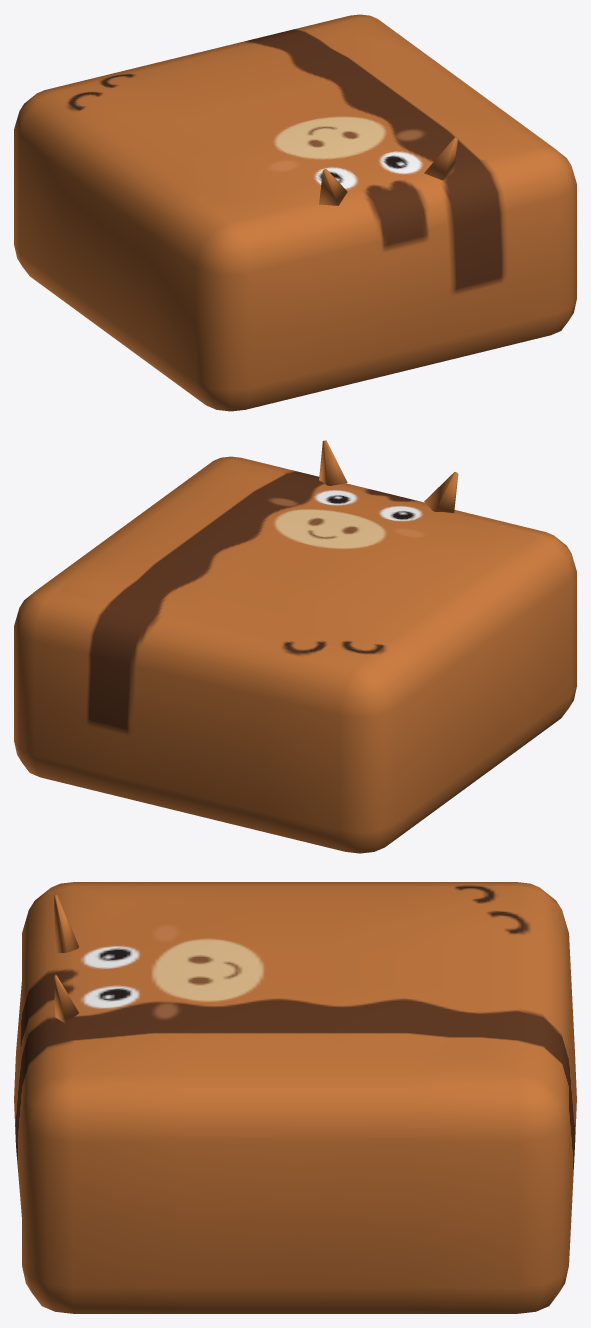
The model's file is Horse_2x2.fbx.
The picture shows the model from 3 angles, top to bottom: view 1: azimuth 30°, elevation 25°; view 2: azimuth 150°, elevation 25°; view 3: azimuth 270°, elevation 25°; orthographic projection. The views are drawn at different scales.
Visible parts, largest first — view 1: Horse_2x2; view 2: Horse_2x2; view 3: Horse_2x2.
Part boxes in pixels (x1,y1,x2,y2): Horse_2x2: (14,14,576,411); Horse_2x2: (14,440,576,853); Horse_2x2: (14,882,576,1313).
Bounding box in the file's own units: 1.98 × 1.04 × 1.98.
1 material, 1 textured.
